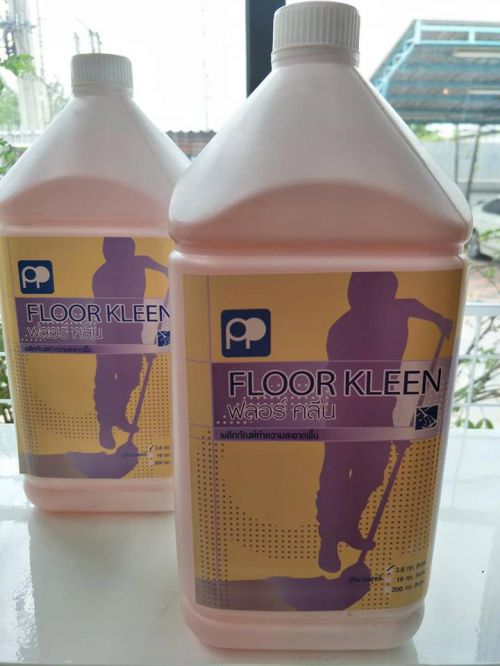Cleaning_solution: (158, 2, 479, 659), (1, 45, 201, 519)
